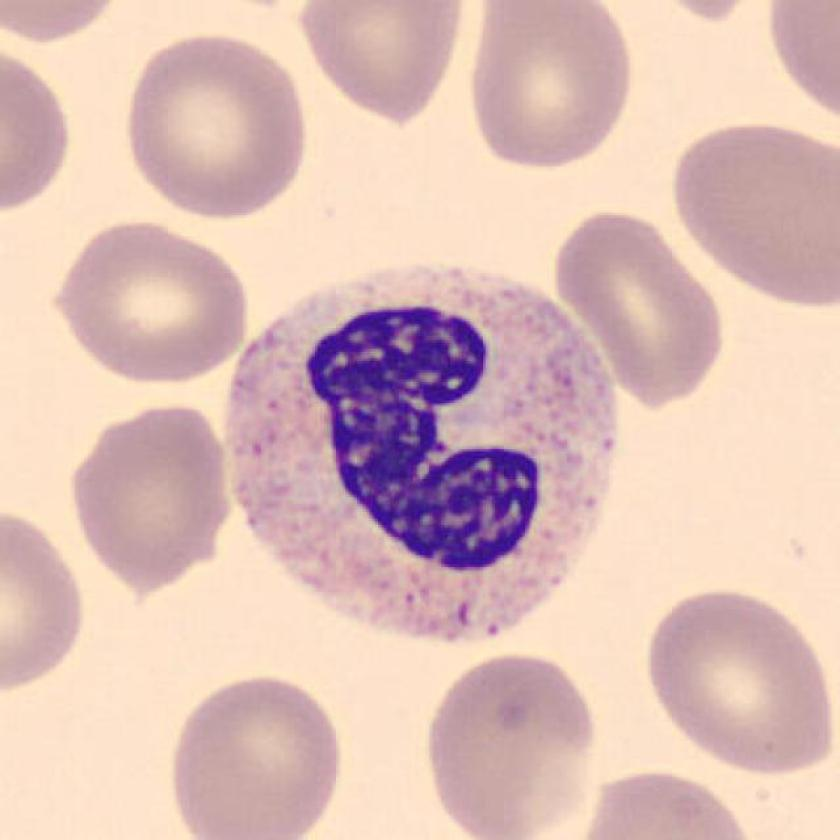neutrophil: (223, 264, 618, 644)
